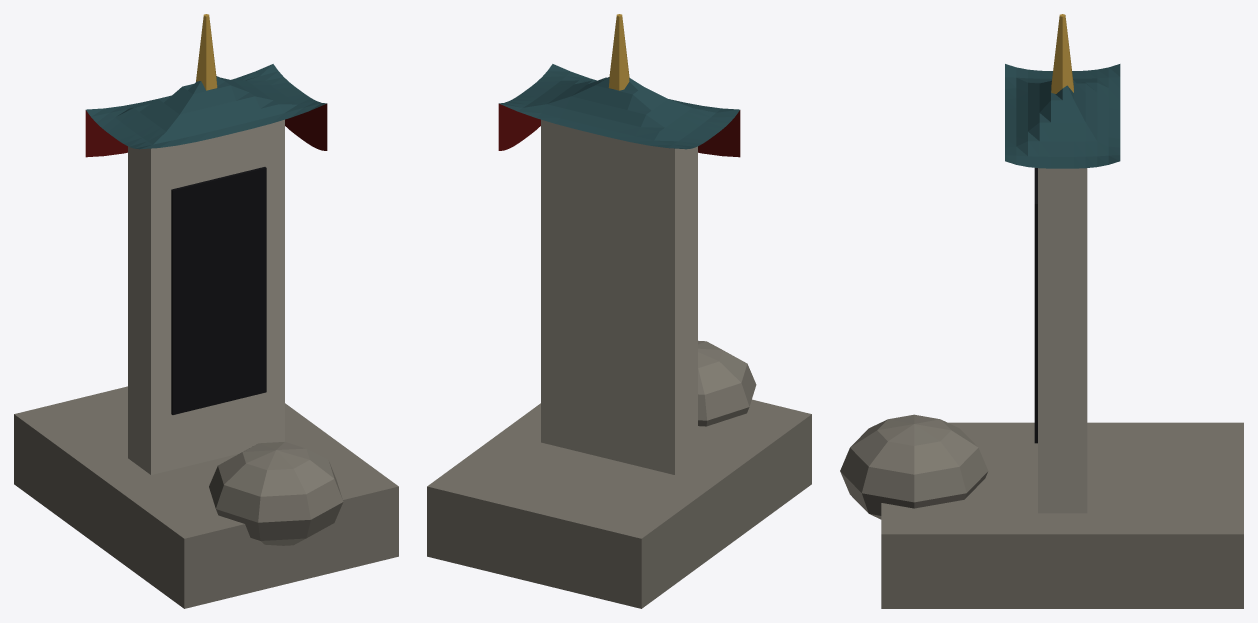
File: stele.glb
3 renders of one model, left to right at view 1: azimuth 30°, elevation 25°; view 2: azimuth 150°, elevation 25°; view 3: azimuth 270°, elevation 25°, orthographic. The views are drawn at different scales.
Visible parts, largest first — view 1: stele; view 2: stele; view 3: stele.
Boxes of the visible parts, x1=… form: stele: x1=14, y1=14, x2=398, y2=608; stele: x1=427, y1=14, x2=811, y2=608; stele: x1=840, y1=14, x2=1243, y2=608.
Size of the model in its own units: 1.6 by 3.6 by 2.45.
